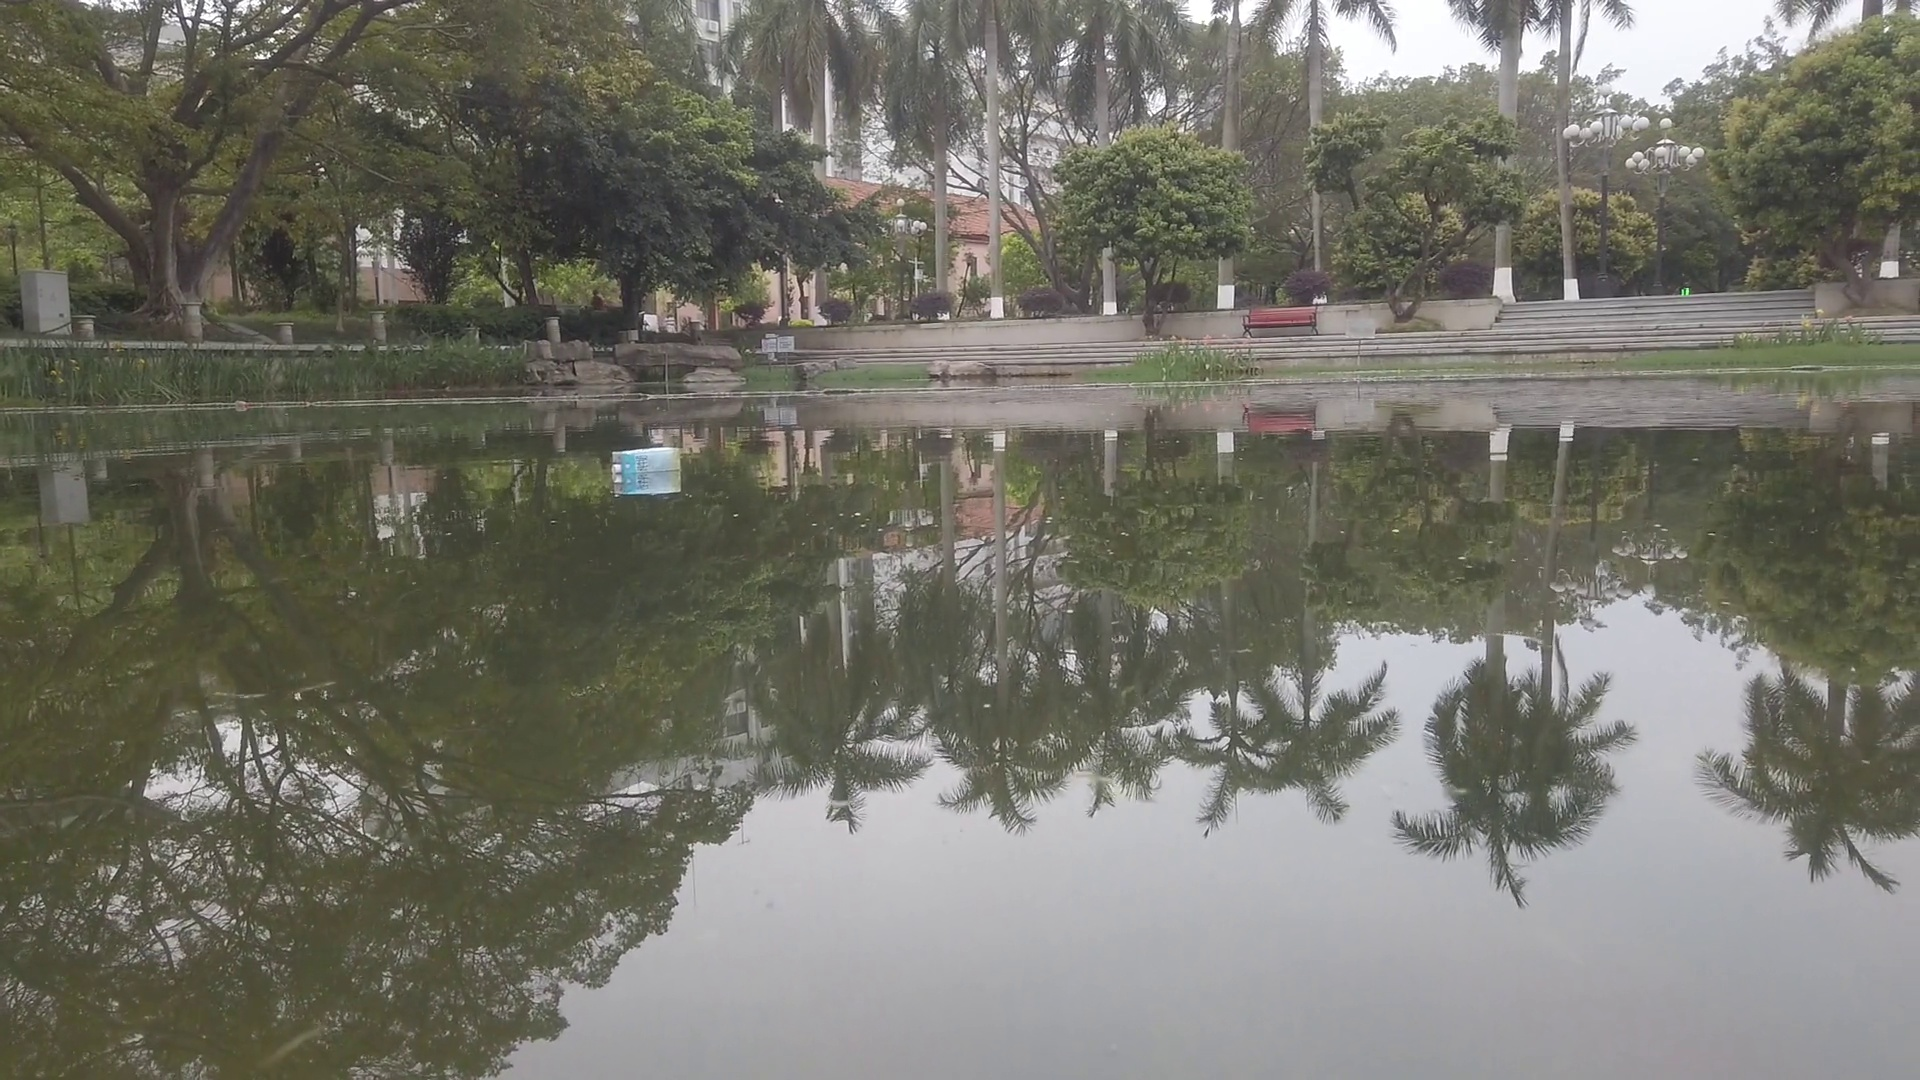bottle: (235, 400, 247, 407)
carton: (609, 446, 680, 476)
